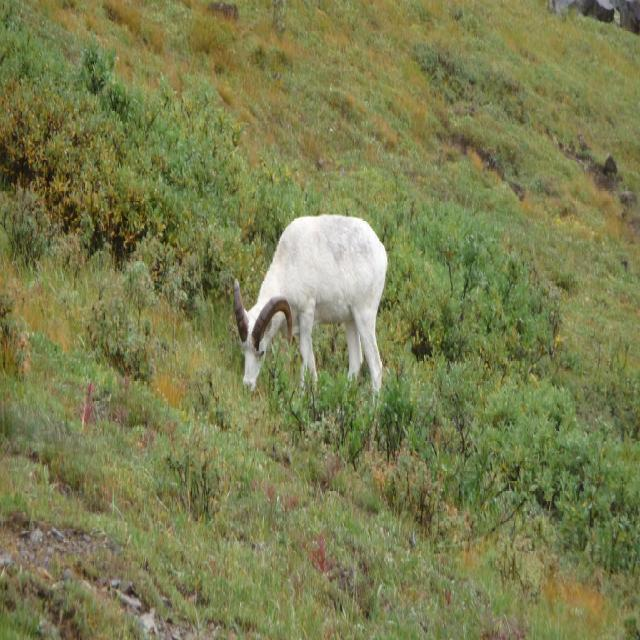Goat: (232, 212, 388, 410)
